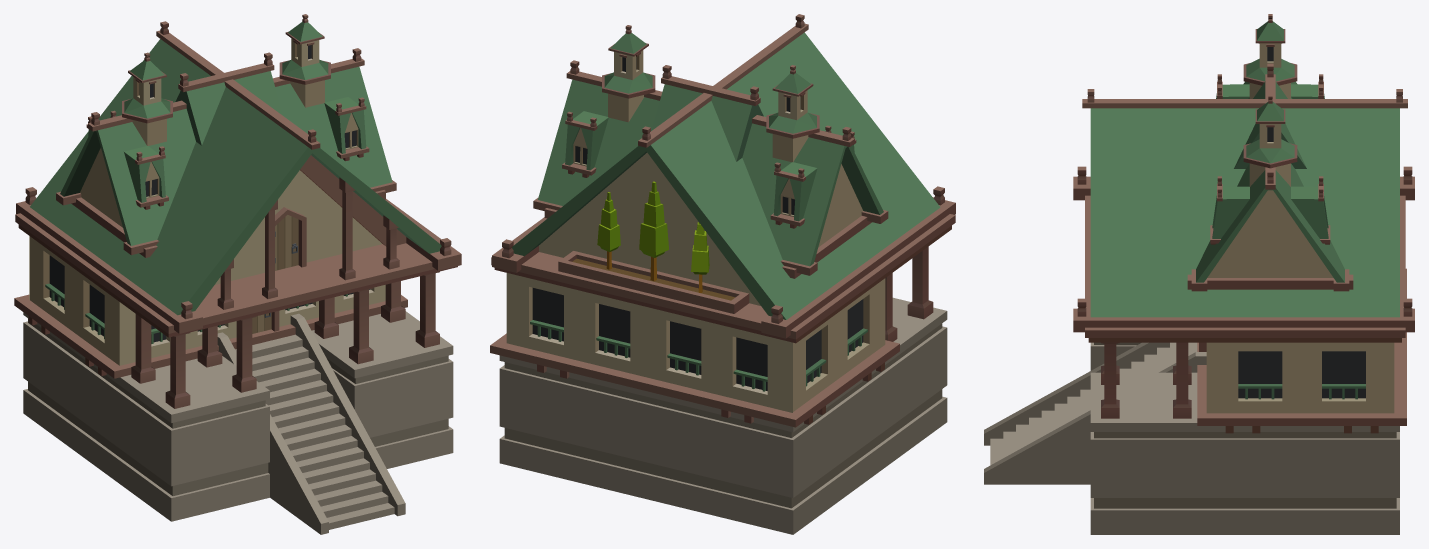
Rendered from SF_Bld_Elven_House_05.fbx.
The picture shows the model from 3 angles, left to right: view 1: azimuth 30°, elevation 25°; view 2: azimuth 150°, elevation 25°; view 3: azimuth 270°, elevation 25°; orthographic projection. The views are drawn at different scales.
Parts seen in each view (by area): view 1: SF_Bld_Elven_House_05; view 2: SF_Bld_Elven_House_05; view 3: SF_Bld_Elven_House_05.
Part boxes in pixels (x1,y1,x2,y2): SF_Bld_Elven_House_05: (14,14,461,534); SF_Bld_Elven_House_05: (490,14,955,534); SF_Bld_Elven_House_05: (984,14,1414,534).
Bounding box in the file's own units: 27.83 × 35.3 × 33.81.
